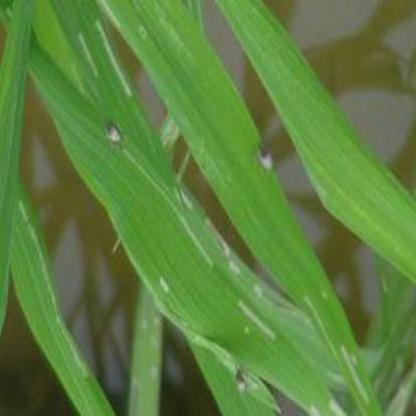rice-bug: (254, 144, 276, 172), (104, 122, 123, 145), (234, 368, 245, 391)
